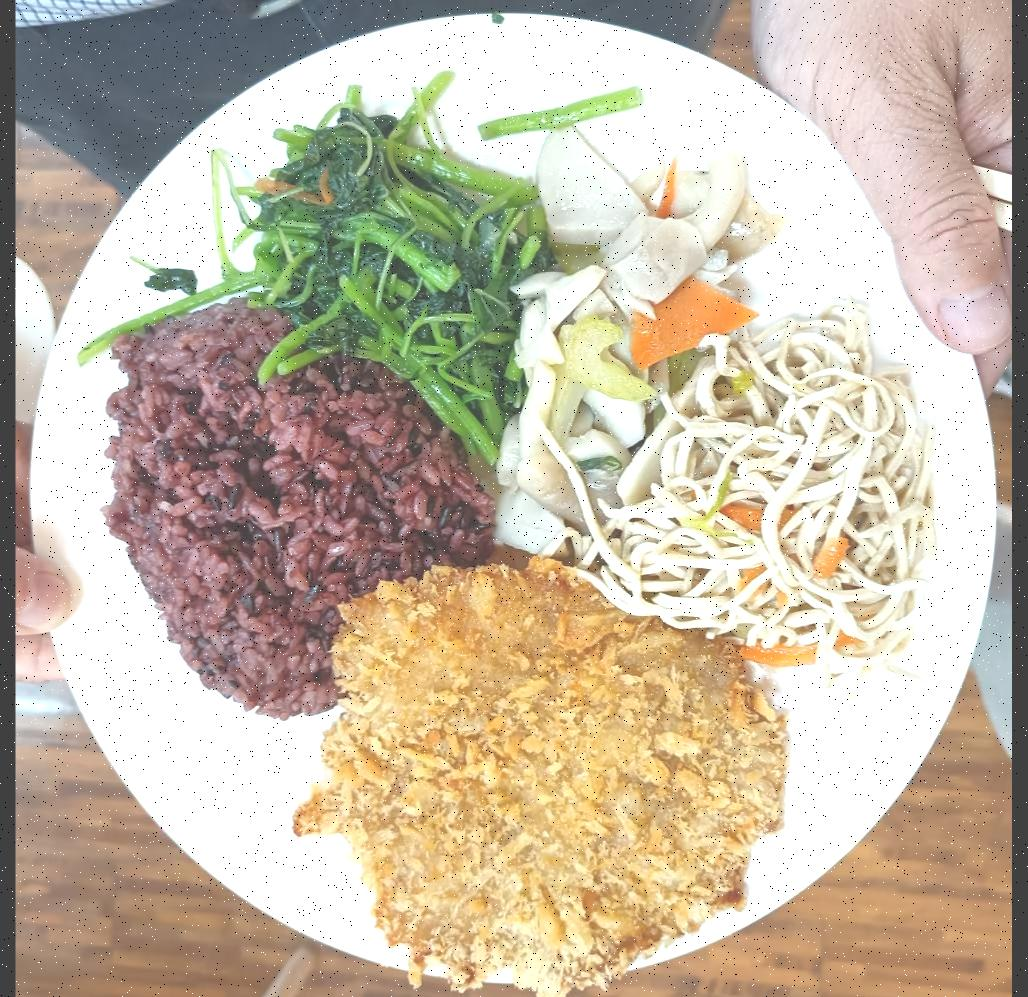fried pork chops: (331, 566, 766, 972)
plate: (41, 0, 1004, 989)
purple rice: (121, 292, 407, 700)
side dish: (585, 312, 928, 654), (261, 108, 525, 390), (516, 148, 688, 509)
